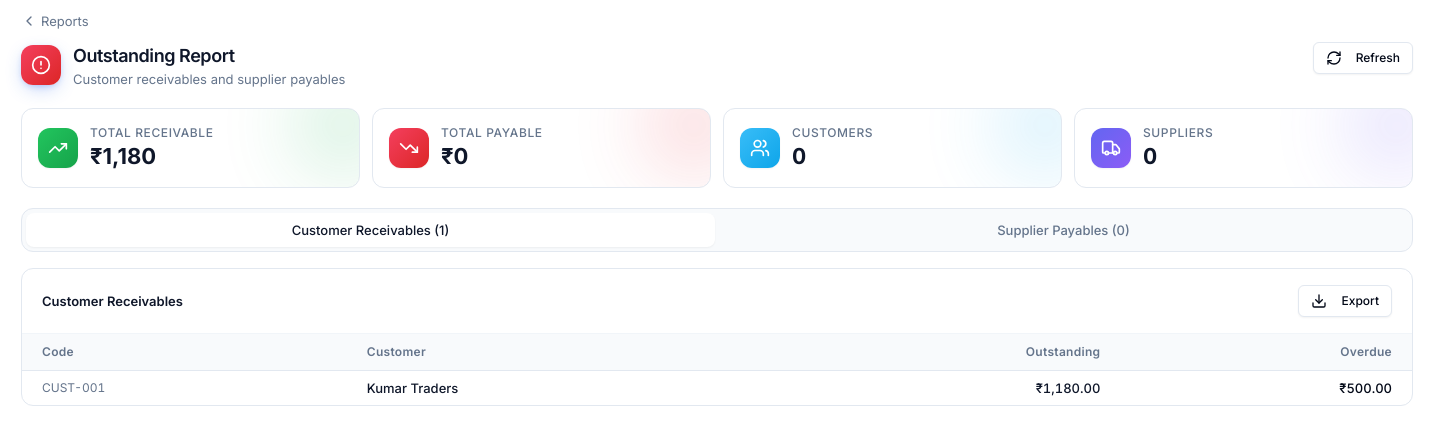
Test: OutstandingReportView › shows the empty state for payables
This screenshot has width=1430, height=423.
Click the tab "Supplier Payables (0)" at (1064, 230), box [719,213,1408,247]
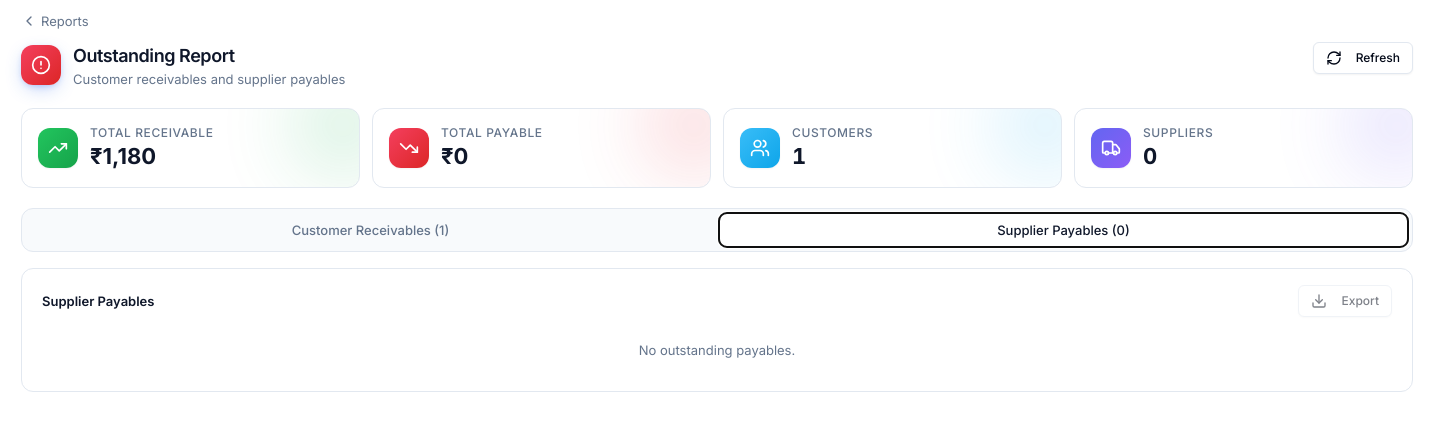
expect the text "No outstanding payables." is shown: met, box [639,342,795,358]
expect the button with aria-label "export supplier payables csv" is disabled: met, box [1298,285,1392,317]
